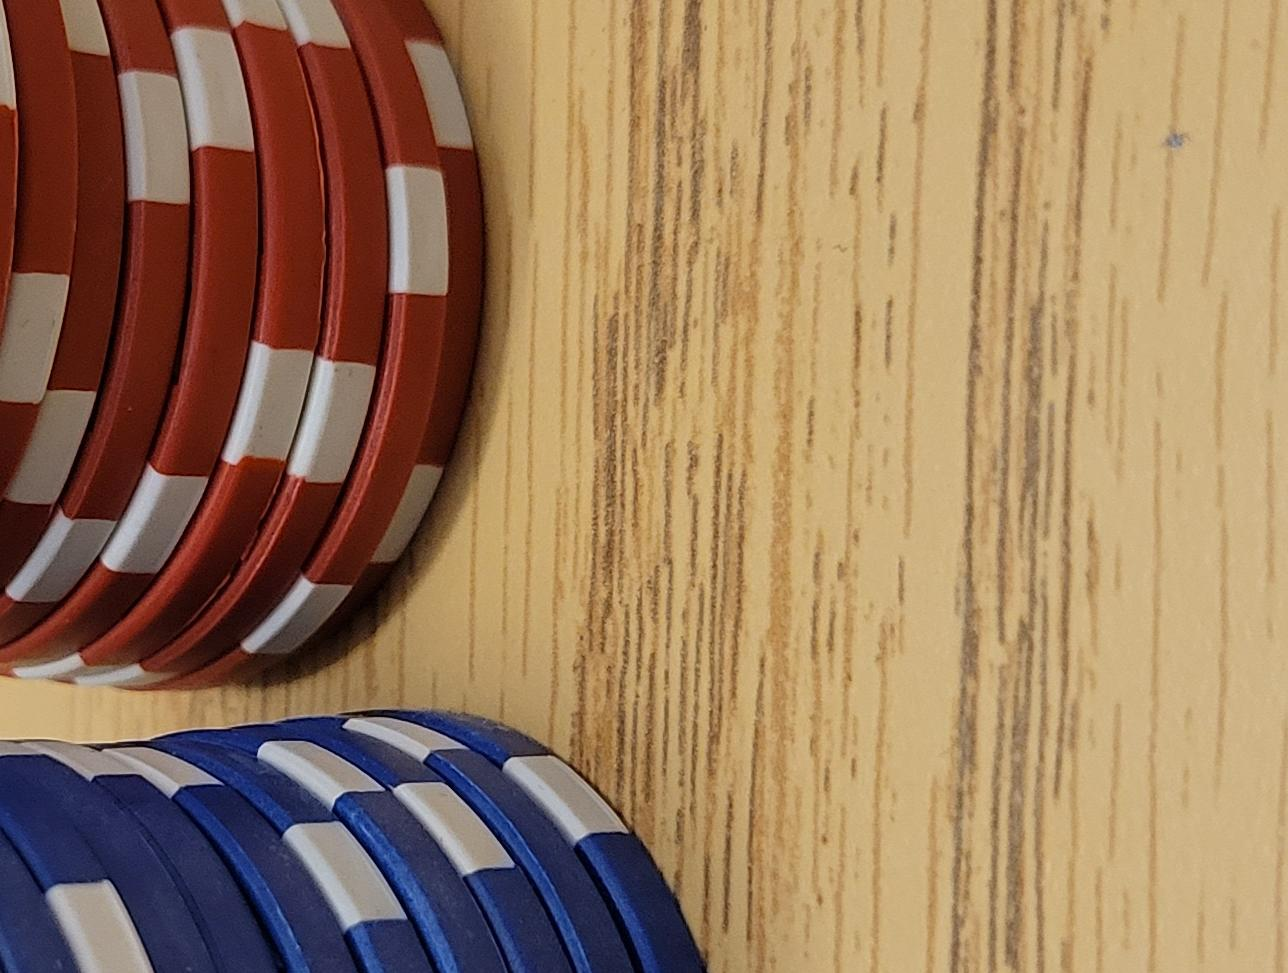Chip: (1, 300, 498, 973)
